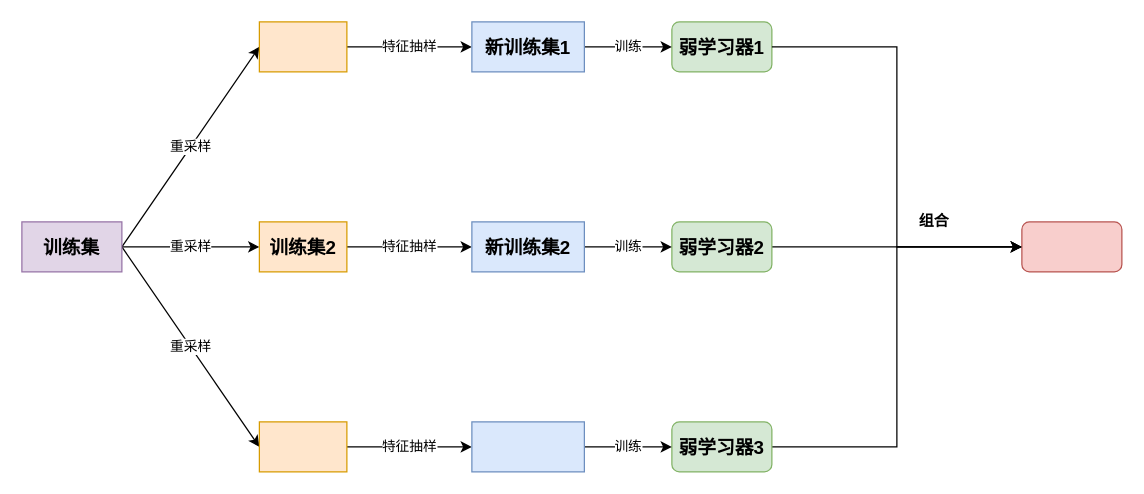
Image size: 1144x494. Some labels were removed from this diagram. The centre of each missing label's shape, as x and y in pixels:
强学习器: the point at 1071,246
新训练集3: the point at 527,446
训练集1: the point at 302,46
训练集3: the point at 302,446
